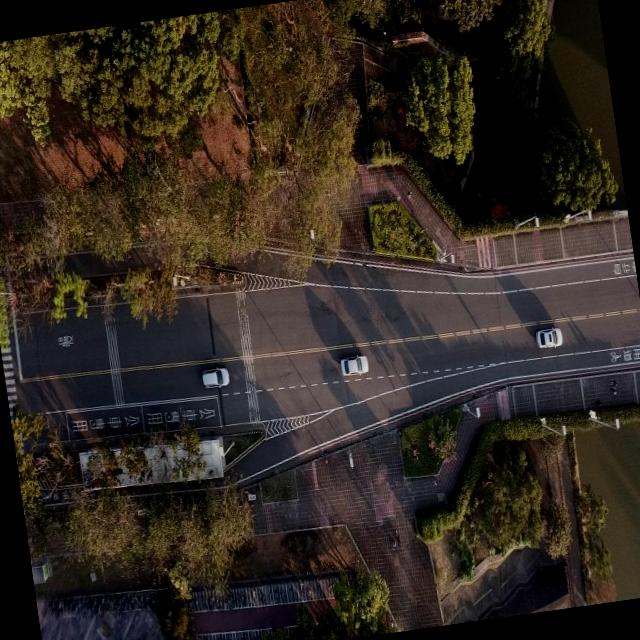car: (339, 352, 369, 377), (200, 365, 230, 390), (534, 326, 564, 350)
